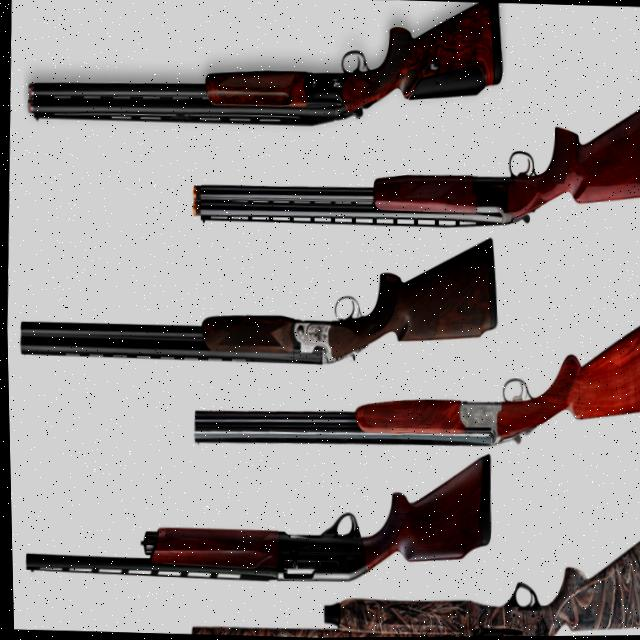firearm: (15, 223, 498, 378), (187, 298, 640, 461), (19, 438, 491, 589), (187, 85, 640, 240), (25, 0, 505, 138), (184, 512, 640, 639)
